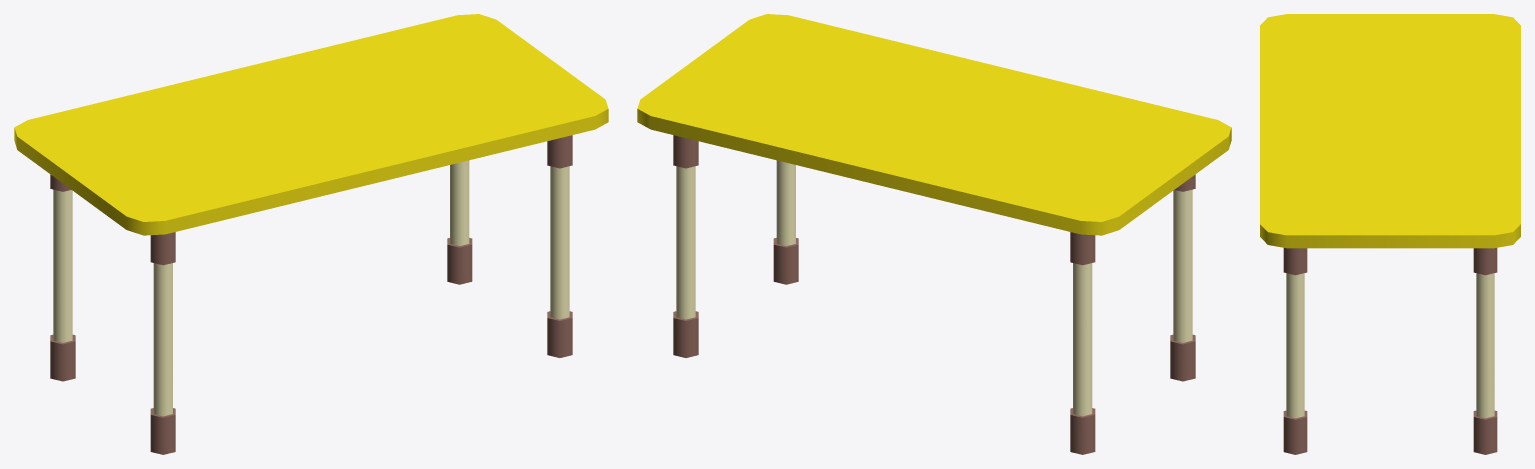
File: office_table_020.glb
3 views of the same model, side by side, from view 1: azimuth 30°, elevation 25°; view 2: azimuth 150°, elevation 25°; view 3: azimuth 270°, elevation 25° (orthographic). The views are drawn at different scales.
Parts seen in each view (by area): view 1: office_table_020; view 2: office_table_020; view 3: office_table_020.
Boxes of the visible parts, bbox=[...] form: office_table_020: bbox=[14, 14, 608, 454]; office_table_020: bbox=[637, 14, 1231, 454]; office_table_020: bbox=[1260, 14, 1520, 454].
Size of the model in its own units: 1.06 by 0.5174 by 0.5256.
Materials: 1 (1 with a texture image).
